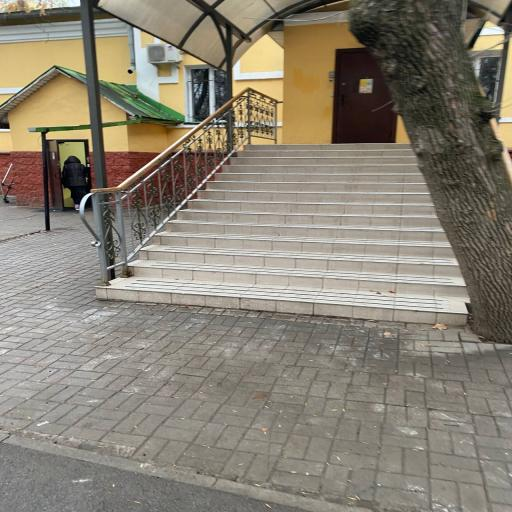corridor: (333, 49, 396, 143), (47, 140, 63, 209)
shelf: (0, 216, 511, 511)
sofa: (97, 144, 468, 325)
